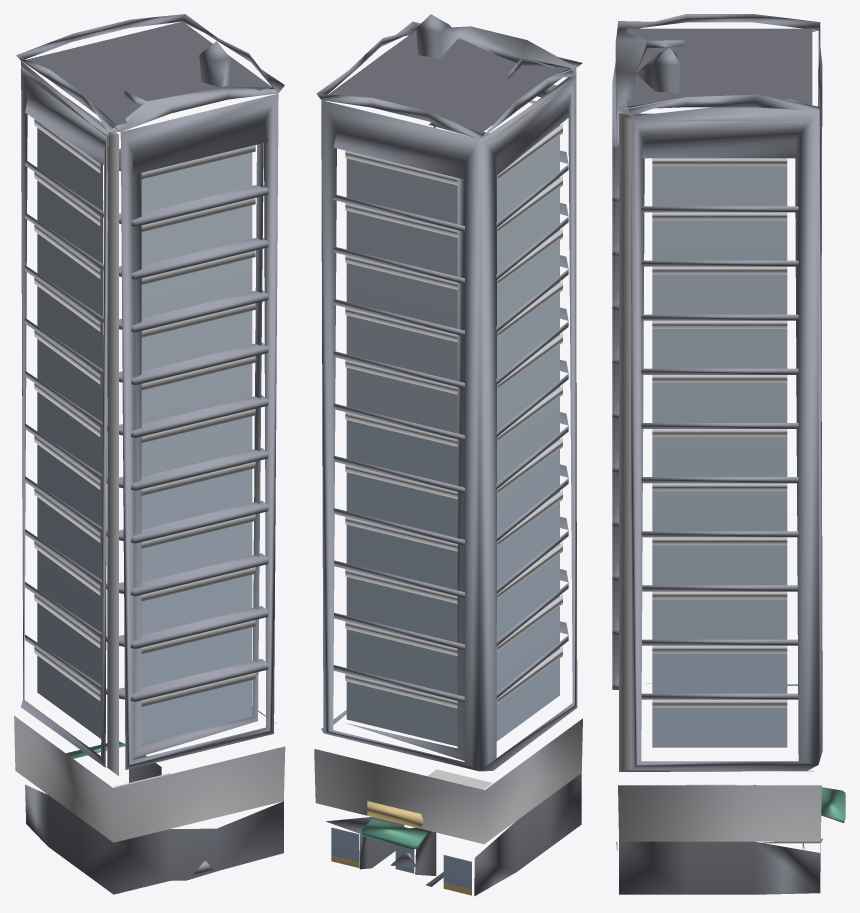
The picture shows the model from 3 angles, left to right: view 1: azimuth 30°, elevation 25°; view 2: azimuth 150°, elevation 25°; view 3: azimuth 270°, elevation 25°; orthographic projection. The views are drawn at different scales.
Size of the model in its own units: 9.86 by 43.76 by 11.1.
